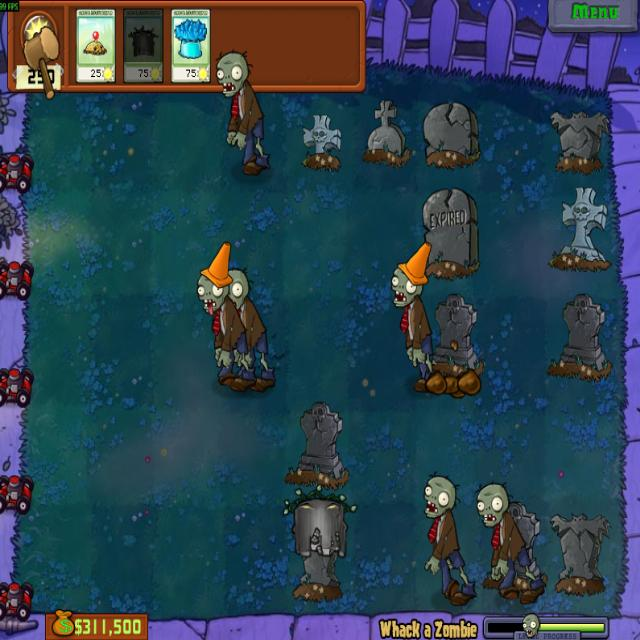conehead: (196, 241, 232, 316), (391, 244, 432, 308)
grave: (422, 188, 482, 281), (547, 295, 613, 378), (552, 509, 613, 597), (548, 186, 610, 272), (288, 402, 346, 489), (428, 290, 480, 380), (421, 97, 480, 168), (550, 106, 608, 174), (503, 501, 542, 594), (362, 99, 411, 168), (299, 111, 344, 170)
zombie: (215, 49, 249, 97), (475, 480, 509, 527), (422, 474, 458, 518), (228, 270, 249, 312)
